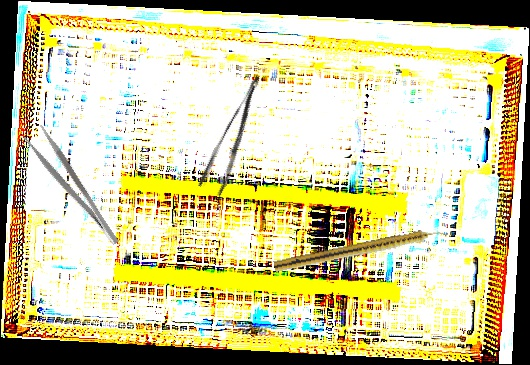Dressing Forceps: (22, 123, 122, 254), (195, 74, 279, 198)
Handpiece: (273, 225, 447, 276)
